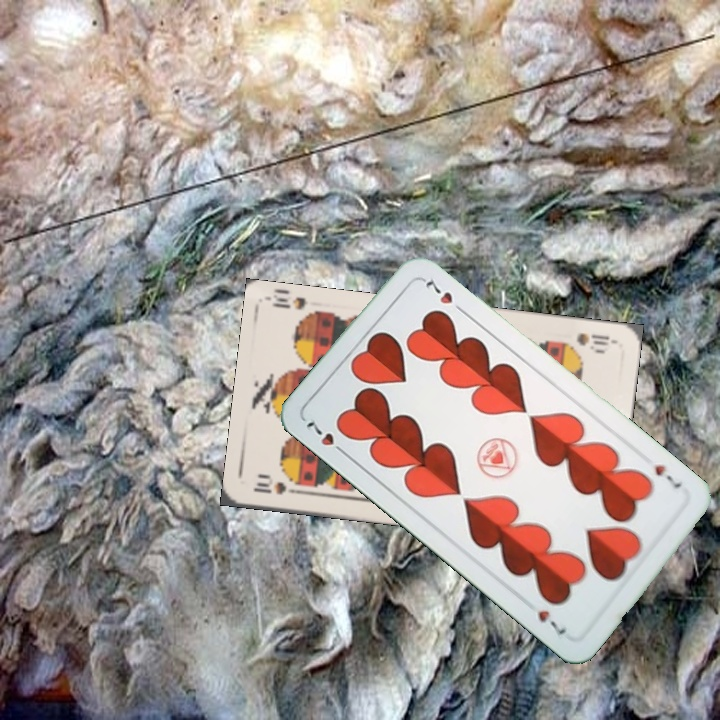H7: (301, 415, 350, 459), (650, 460, 684, 492)
S10: (249, 473, 306, 498), (572, 329, 616, 354)
